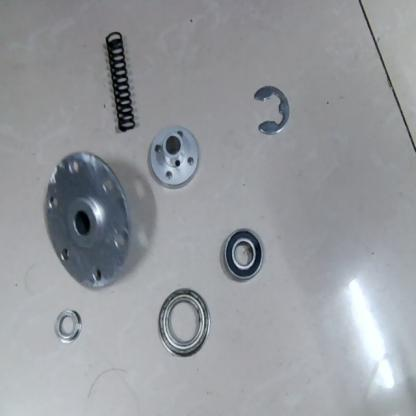FOD: (41, 145, 140, 294), (103, 23, 141, 136), (156, 285, 212, 361), (147, 123, 201, 189), (221, 226, 266, 282), (252, 83, 291, 139), (50, 304, 86, 347)
